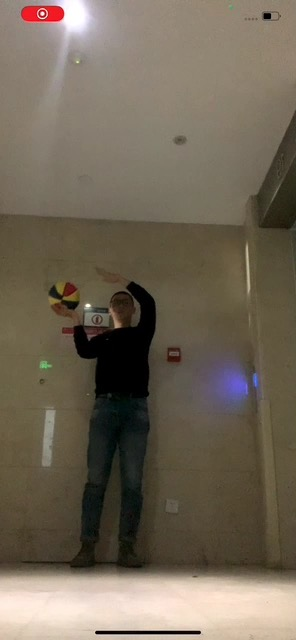ball: (47, 280, 81, 313)
